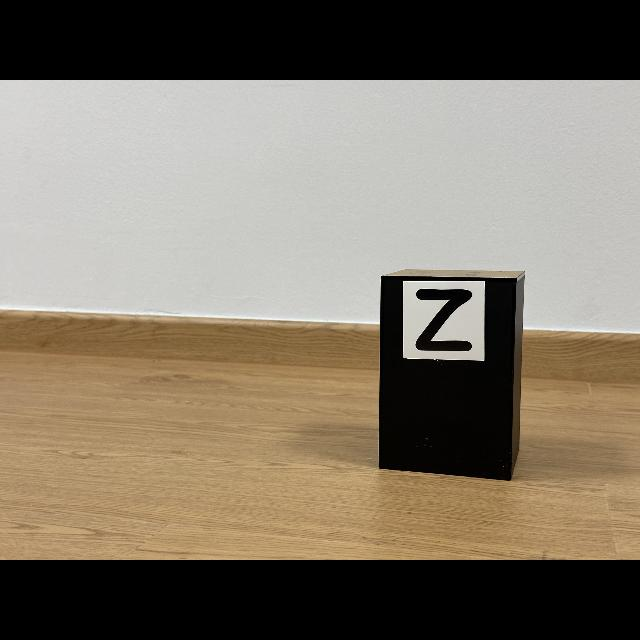Z: (415, 289, 472, 351)
